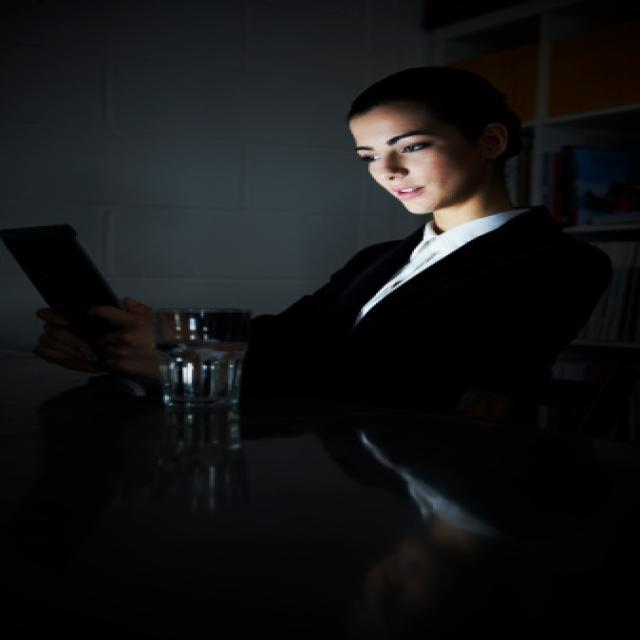Cup: (144, 319, 264, 431)
People: (298, 66, 597, 463)
Table: (0, 335, 640, 640)
